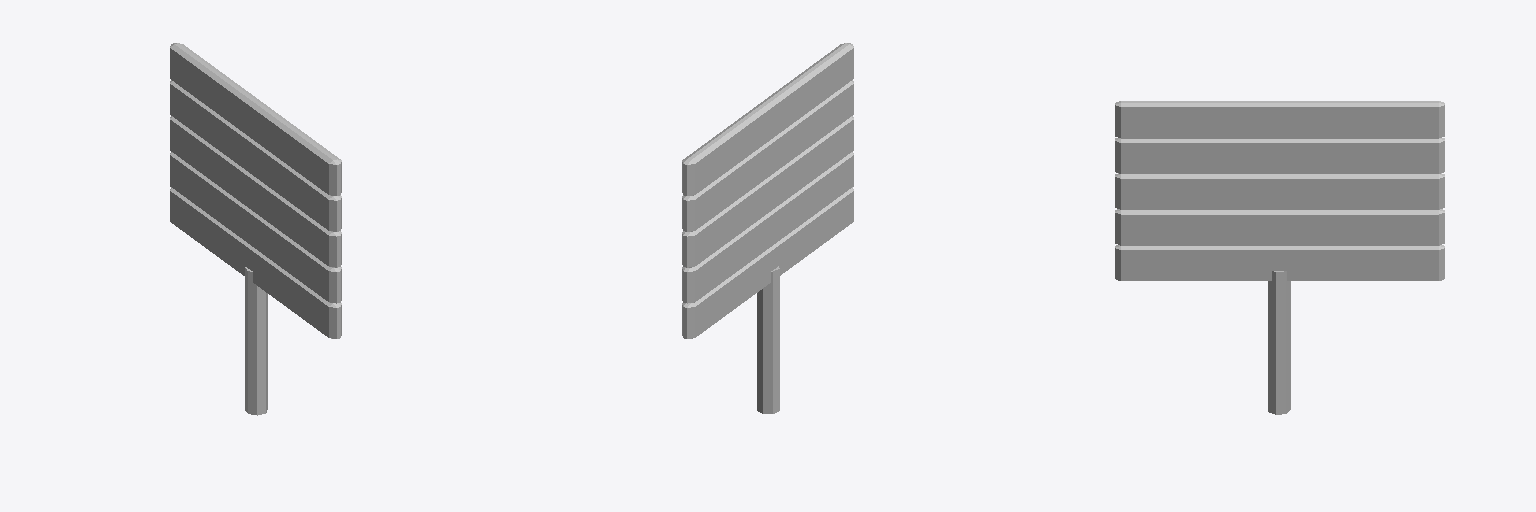
Rendered from cartelmadera.obj.
3 views of the same model, side by side, from view 1: azimuth 30°, elevation 25°; view 2: azimuth 150°, elevation 25°; view 3: azimuth 270°, elevation 25° (orthographic).
Visible parts, largest first — view 1: Cube; view 2: Cube; view 3: Cube.
Boxes of the visible parts, x1=… form: Cube: x1=170, y1=43, x2=341, y2=415; Cube: x1=682, y1=43, x2=853, y2=413; Cube: x1=1115, y1=101, x2=1444, y2=414.
Size of the model in its own units: 0.2543 by 3.76 by 3.65.